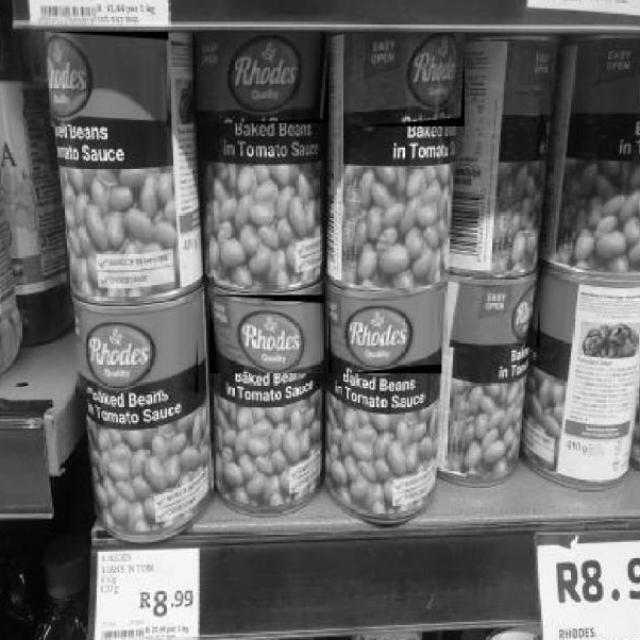Beans: (45, 32, 171, 129), (198, 34, 332, 125), (343, 34, 466, 129), (75, 306, 200, 394), (329, 290, 443, 375), (209, 294, 325, 375), (448, 279, 542, 349)
